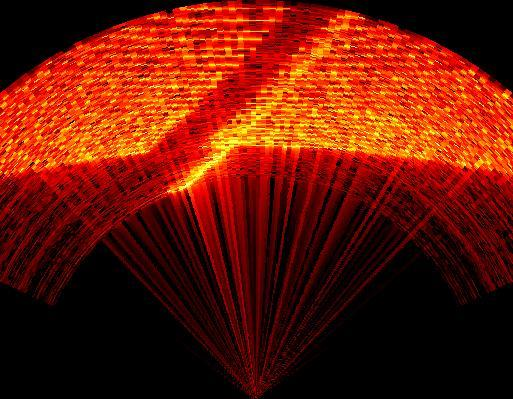pipe: (143, 10, 367, 194)
